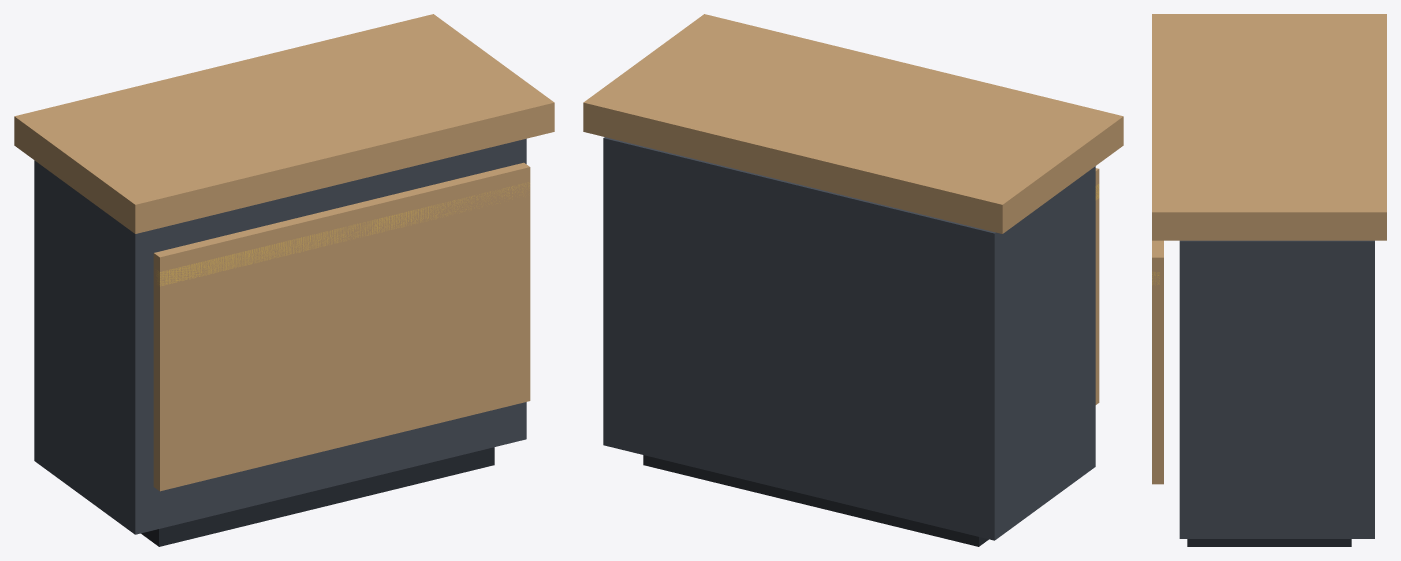
File: counter-standard.glb
3 views of the same model, side by side, from view 1: azimuth 30°, elevation 25°; view 2: azimuth 150°, elevation 25°; view 3: azimuth 270°, elevation 25° (orthographic). The views are drawn at different scales.
Visible parts, largest first — view 1: front-panel, countertop, carcass, plinth, brand-strip; view 2: carcass, countertop, plinth, front-panel; view 3: carcass, countertop, front-panel, plinth.
Part boxes in pixels (bbox=[...]): front-panel: bbox=[153, 162, 530, 491]; countertop: bbox=[14, 14, 554, 233]; carcass: bbox=[34, 138, 526, 534]; plinth: bbox=[141, 447, 494, 546]; brand-strip: bbox=[155, 182, 530, 286]; carcass: bbox=[603, 137, 1095, 540]; countertop: bbox=[583, 14, 1123, 233]; plinth: bbox=[643, 455, 988, 546]; front-panel: bbox=[1095, 168, 1099, 404]; carcass: bbox=[1179, 240, 1374, 538]; countertop: bbox=[1152, 14, 1386, 240]; front-panel: bbox=[1152, 240, 1163, 484]; plinth: bbox=[1187, 539, 1351, 546].
Size of the model in its own units: 1.2 by 1 by 0.6.
